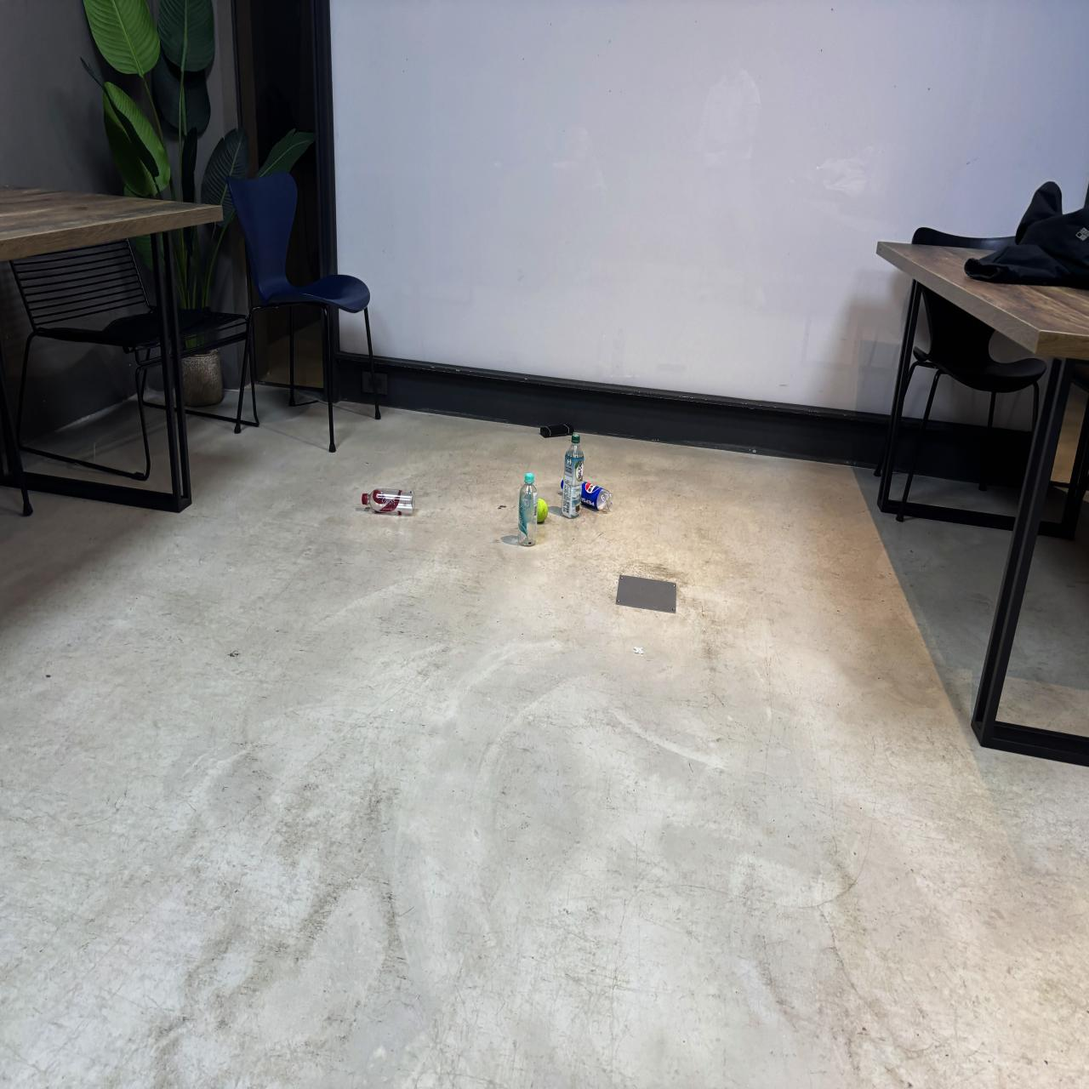plastic-bottle: (562, 434, 584, 518), (519, 473, 538, 545)
tennisball: (538, 499, 548, 523)
